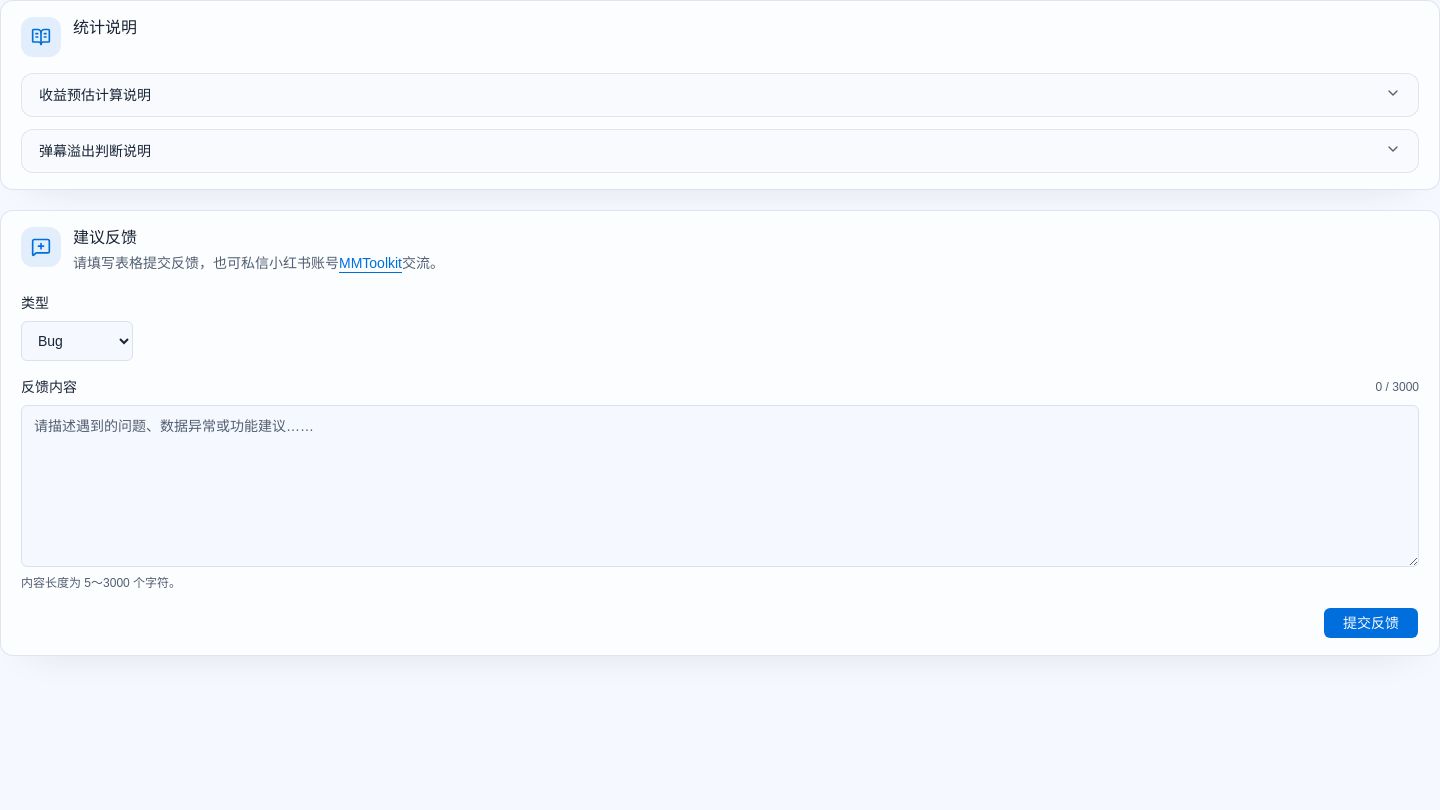
Test: too short feedback cannot be submitted
The image size is (1440, 810).
Type "1234" into the text box labelled "反馈内容".
click(720, 486); type("1234")  # box [21, 405, 1419, 567]
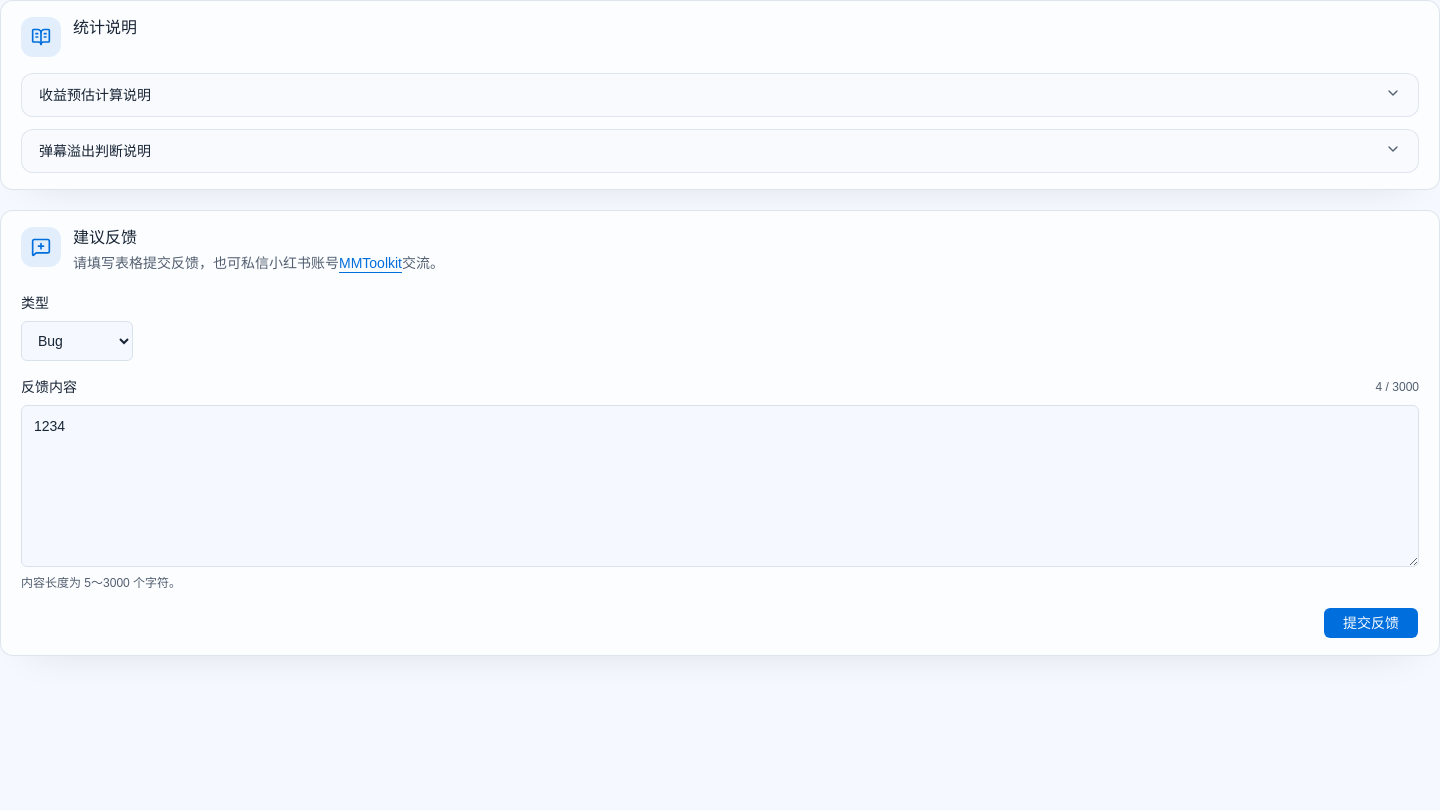
Click the button "提交反馈".
click(1371, 623)  # box [1323, 607, 1419, 639]
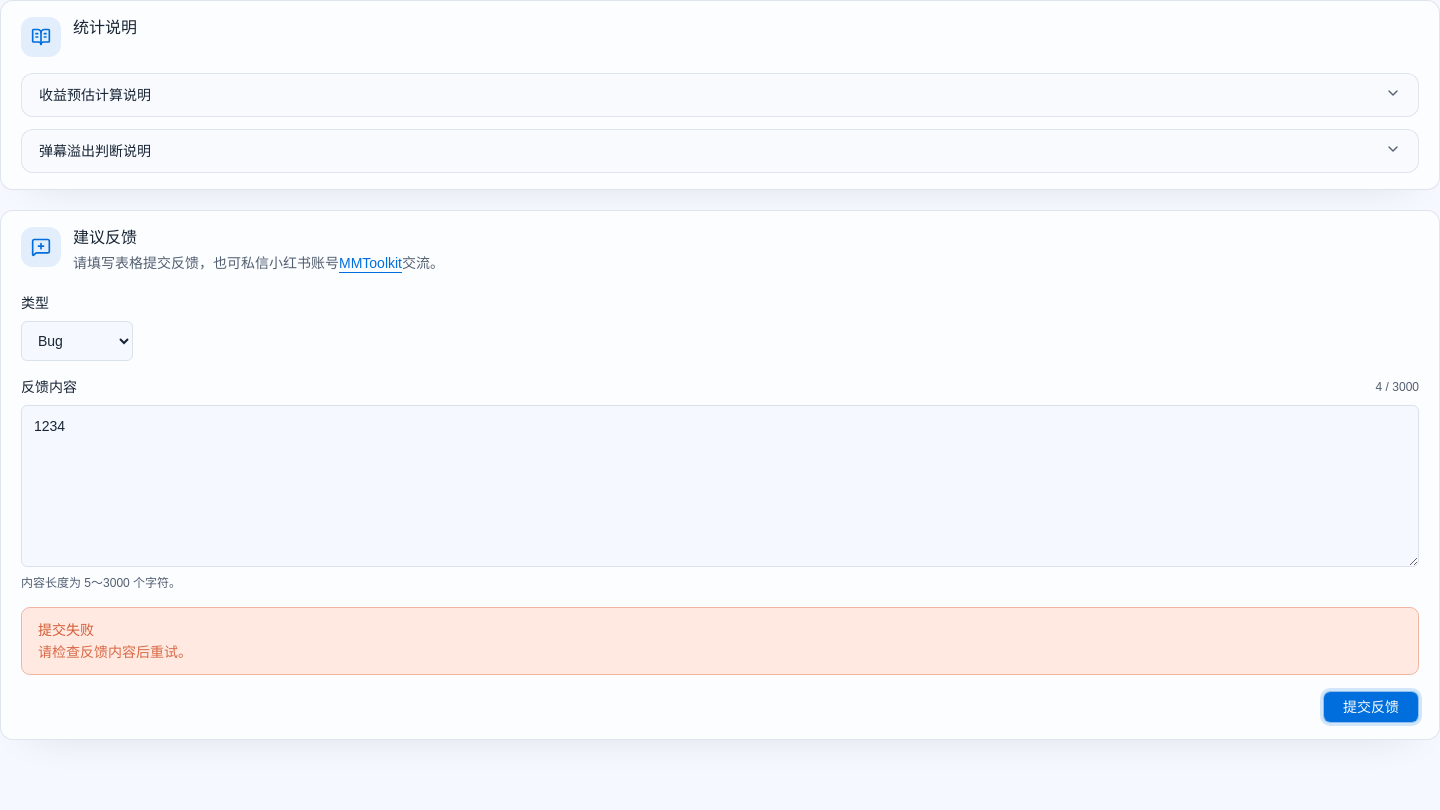
Check: the text "请检查反馈内容后重试。" is shown, box [38, 644, 192, 660]
